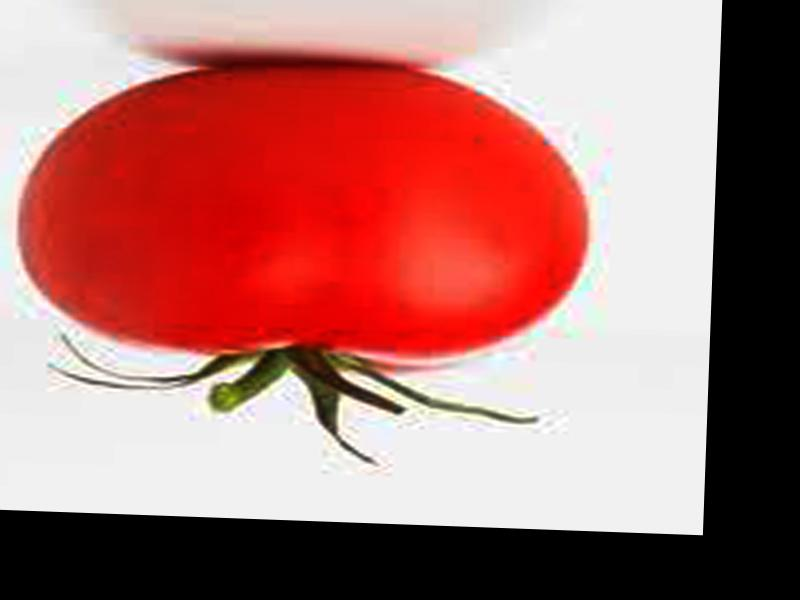Tomato: (18, 54, 593, 368)
